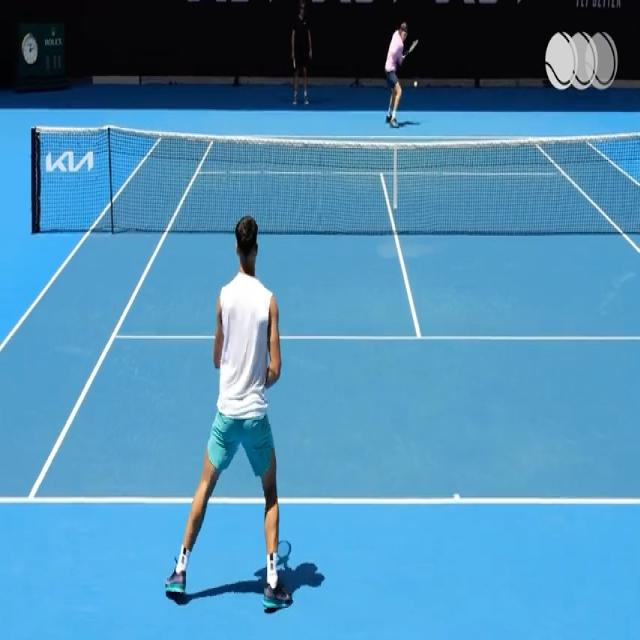ready-position: (186, 215, 293, 617)
